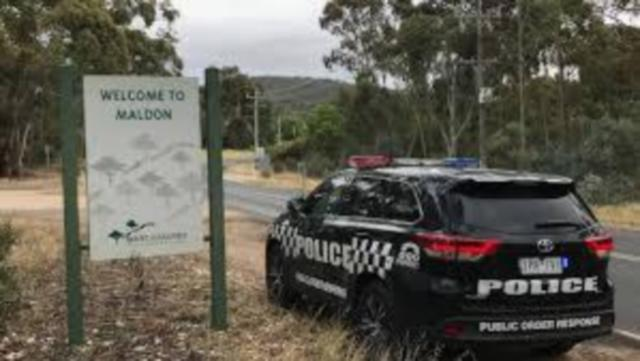police_car: (263, 156, 616, 360)
